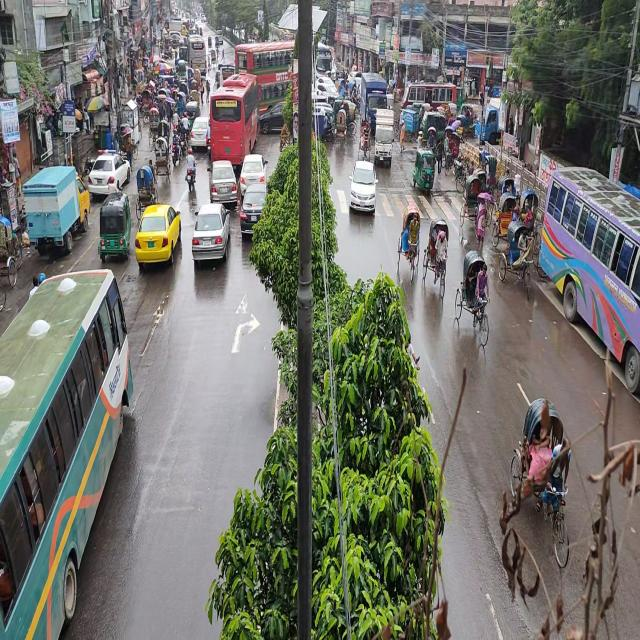black: (240, 186, 264, 236)
silver: (190, 202, 230, 264), (209, 160, 238, 203)
white: (348, 158, 379, 217), (88, 150, 131, 192), (240, 154, 268, 185), (191, 118, 210, 148)
